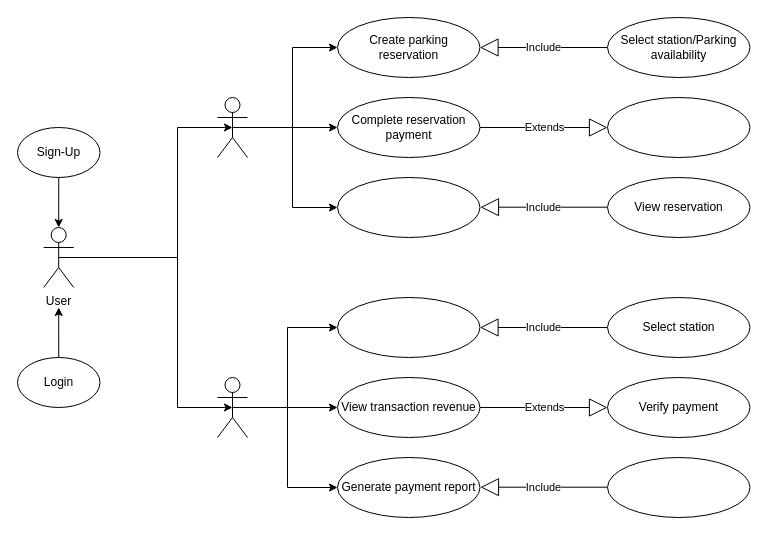
This 768x535 diagram has some shape labels left out. Each missing label, with the centre of its shape:
Administration: the point at 232,407
Cancel reservation: the point at 408,207
Commuters: the point at 232,127
Print payment report: the point at 678,487
Print payment slip: the point at 678,127
Update parking availability: the point at 408,327
